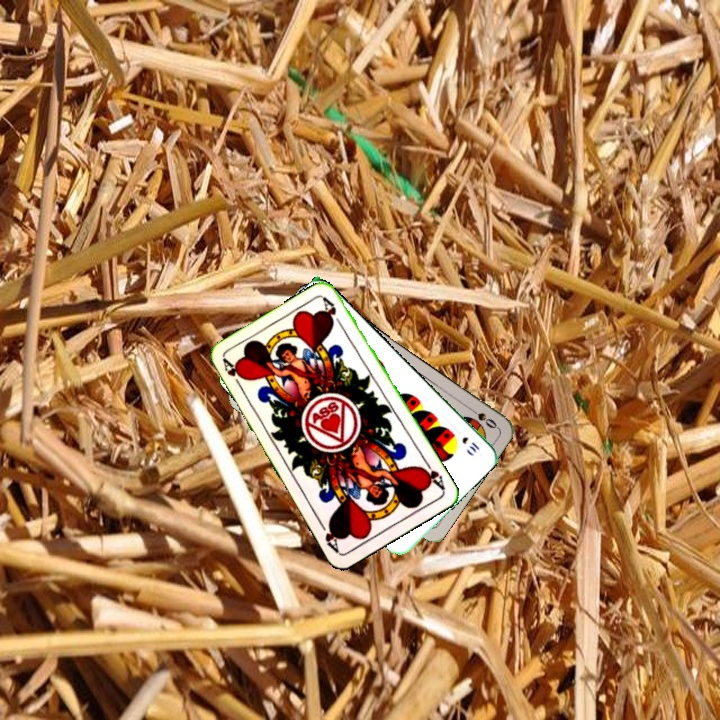HA: (417, 455, 447, 492), (219, 355, 246, 392)
S10: (458, 433, 483, 455)
SO: (464, 403, 500, 431)
